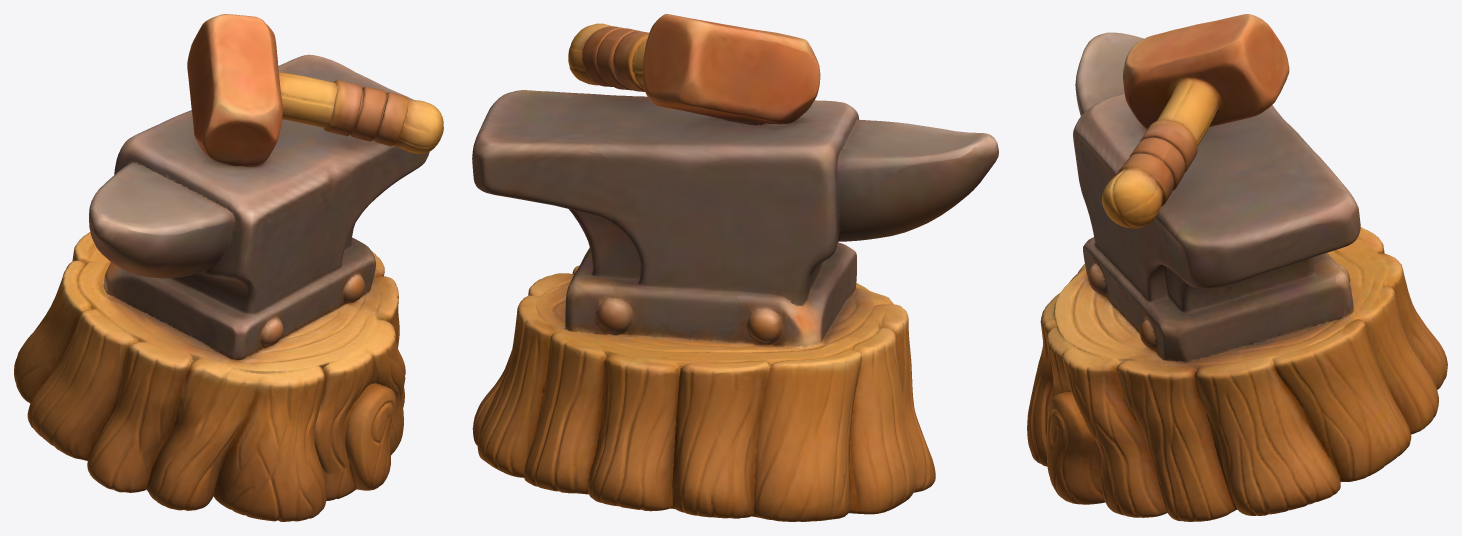
File: de-bua.glb
3 renders of one model, left to right at view 1: azimuth 30°, elevation 25°; view 2: azimuth 150°, elevation 25°; view 3: azimuth 270°, elevation 25°, orthographic. The views are drawn at different scales.
Size of the model in its own units: 0.2603 by 0.2779 by 0.2348.
Materials: 1 (1 with a texture image).
